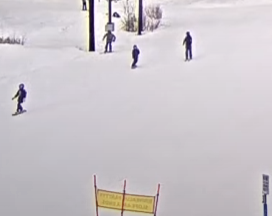skier: (181, 31, 194, 62), (102, 30, 117, 55)
snowboarder: (8, 83, 27, 116)
